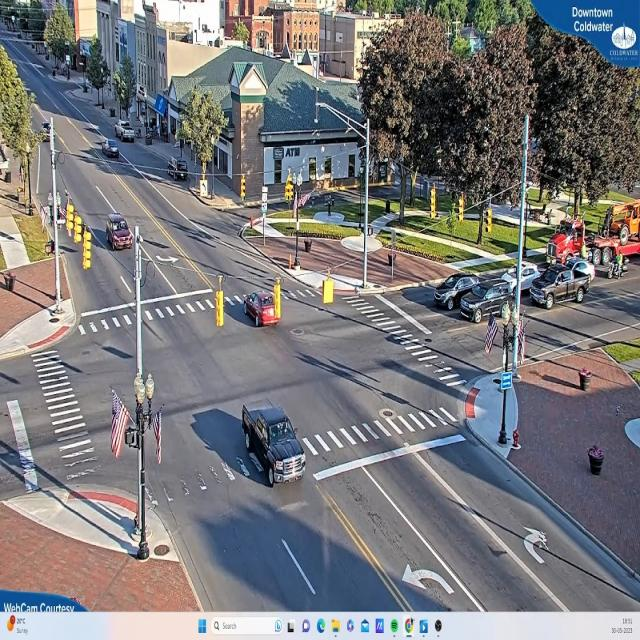car: (242, 403, 308, 488), (527, 258, 593, 309), (460, 284, 513, 324), (433, 270, 471, 308), (238, 290, 278, 324), (502, 260, 540, 295), (108, 214, 134, 249), (117, 125, 137, 144)
